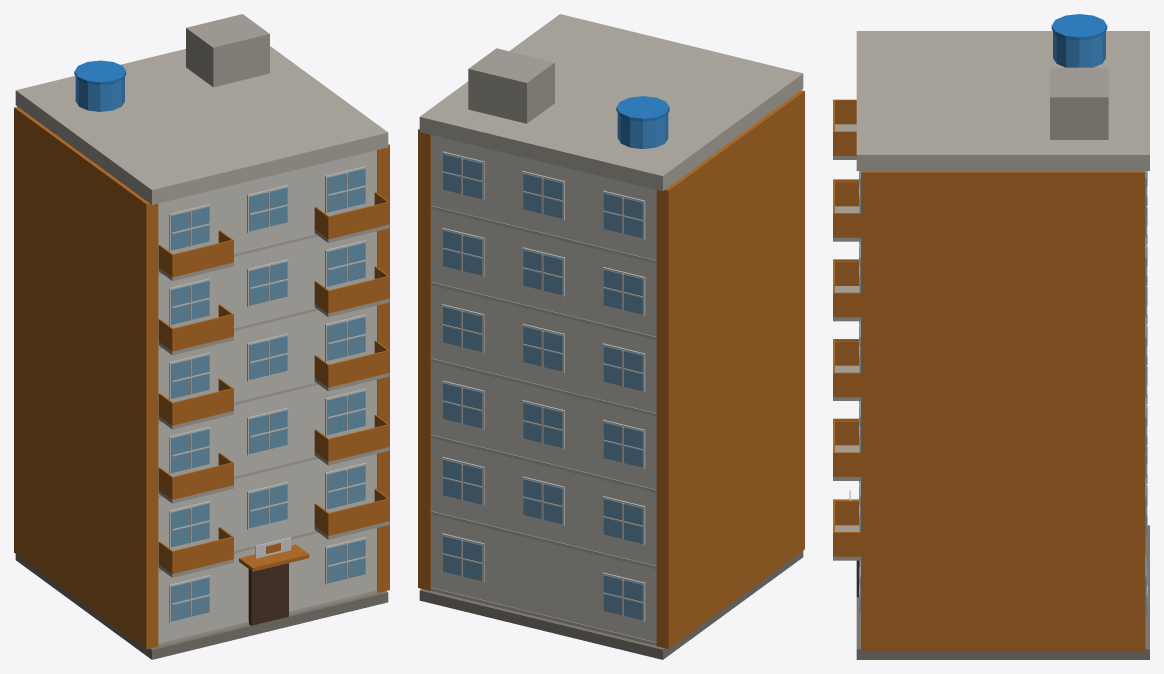
Rendered from apartment.glb.
The picture shows the model from 3 angles, left to right: view 1: azimuth 30°, elevation 25°; view 2: azimuth 150°, elevation 25°; view 3: azimuth 270°, elevation 25°; orthographic projection. The views are drawn at different scales.
Parts seen in each view (by area): view 1: gh_apartment; view 2: gh_apartment; view 3: gh_apartment.
Part boxes in pixels (x1,y1,x2,y2): gh_apartment: (14, 14, 389, 659); gh_apartment: (418, 14, 804, 659); gh_apartment: (833, 14, 1149, 659).
Size of the model in its own units: 10.3 by 20.6 by 10.8.
